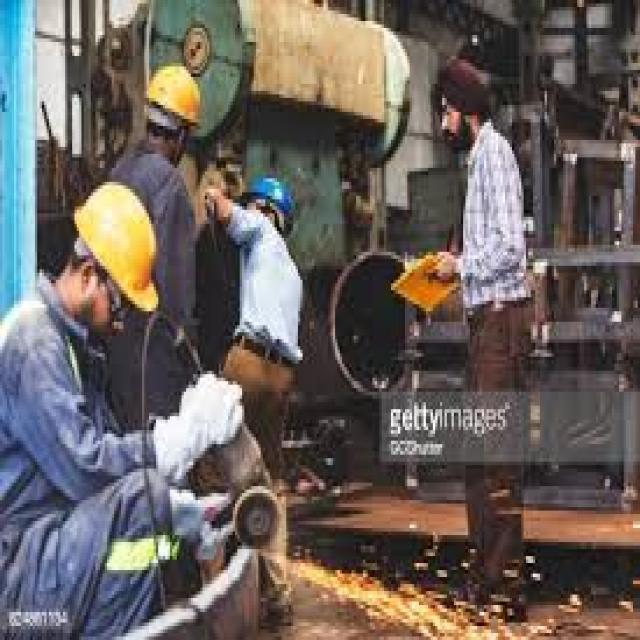safety_helmet: (62, 175, 172, 322), (139, 59, 207, 136), (239, 164, 302, 234)
